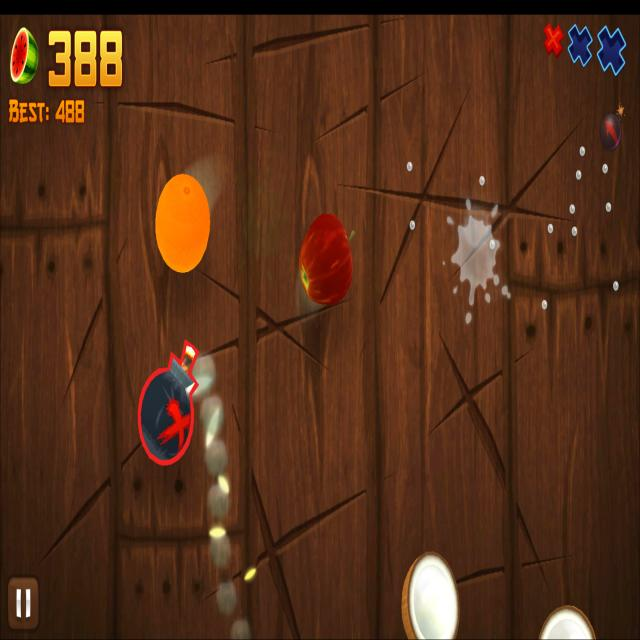bomb: (138, 337, 200, 466)
fruit: (156, 173, 211, 274), (298, 212, 353, 306)
